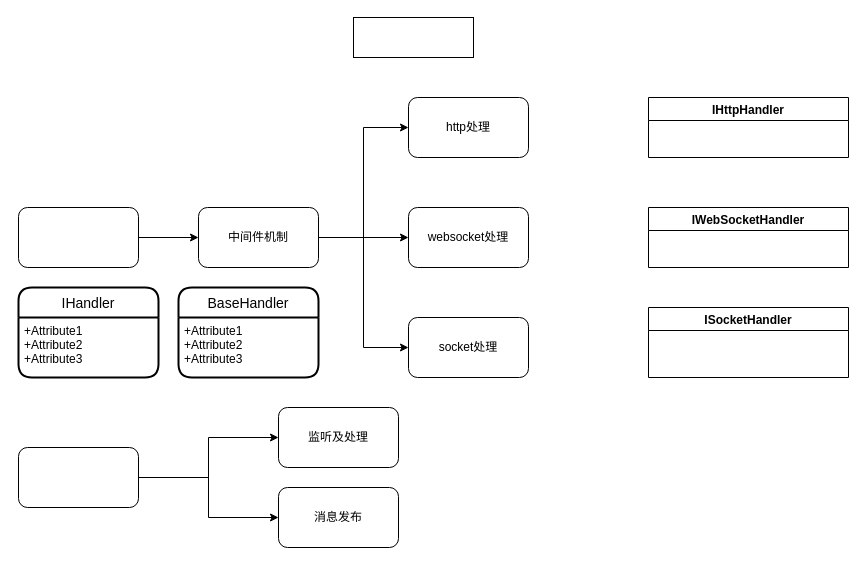
Image size: 866x565. Some labels were removed from this diagram. The shapes that lost their labels are listed below. From the top down, each one's box as (x1, y1, x2, y2) in pixels, then its label:
(352, 16, 474, 58): im core
(18, 206, 138, 268): 通讯处理服务
(18, 446, 138, 508): 消息队列服务
